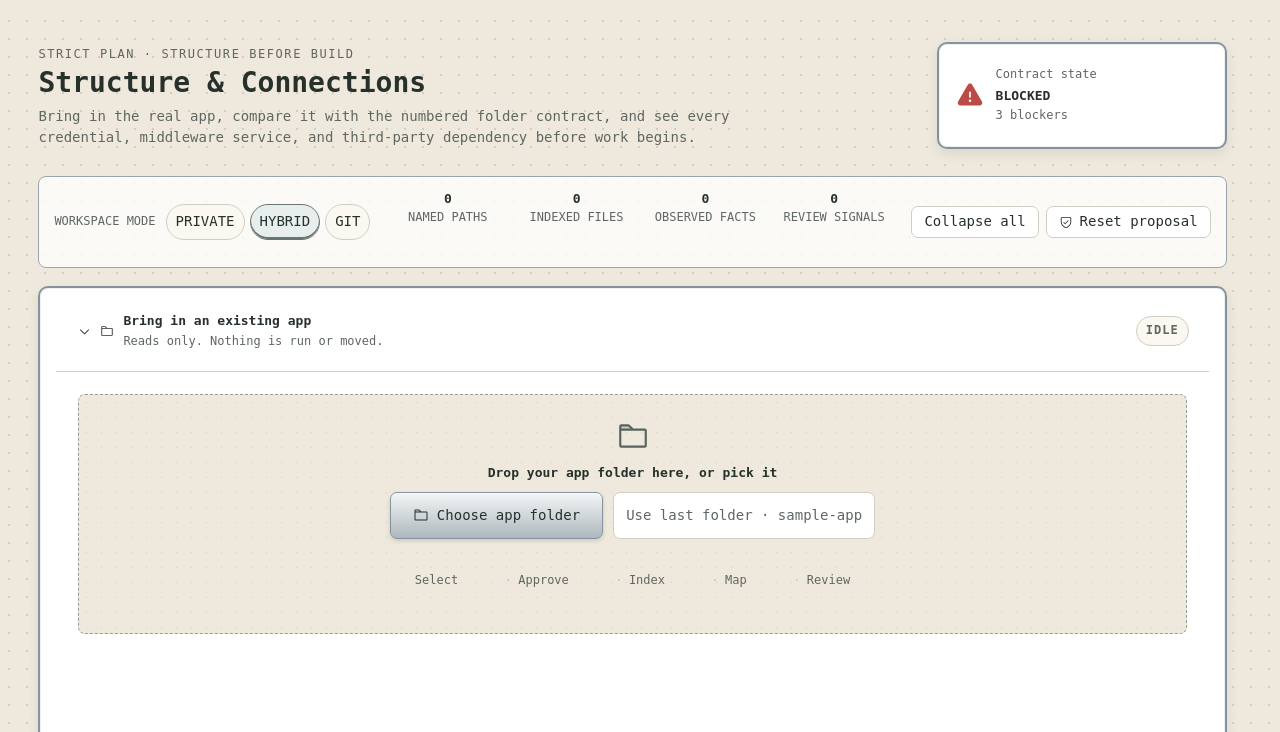
Test: Structure workspace intake and connection map › cancelling the picker reads nothing
Click the button "Choose app folder": [496, 515] box left=390, top=492, right=603, bottom=539
(page scrolled)
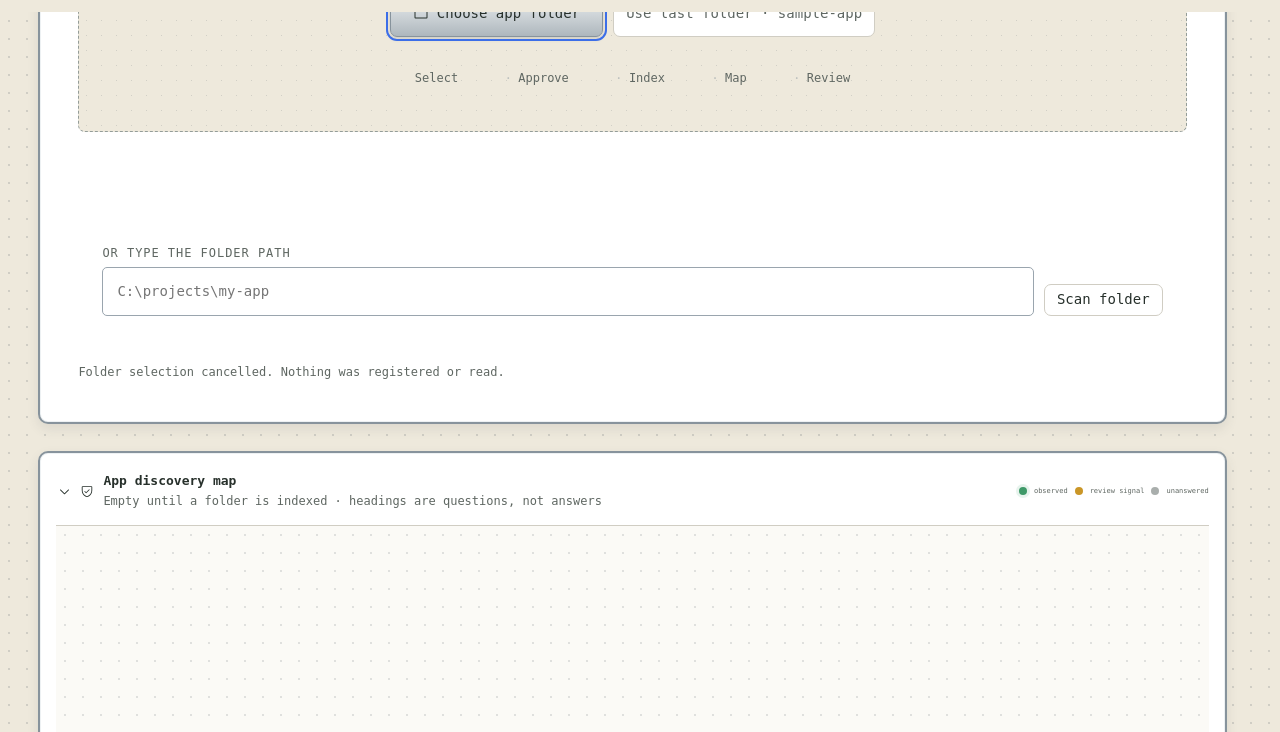
Now the text "Folder selection cancelled. Nothing was registered or read." is shown, box left=78, top=364, right=505, bottom=381
